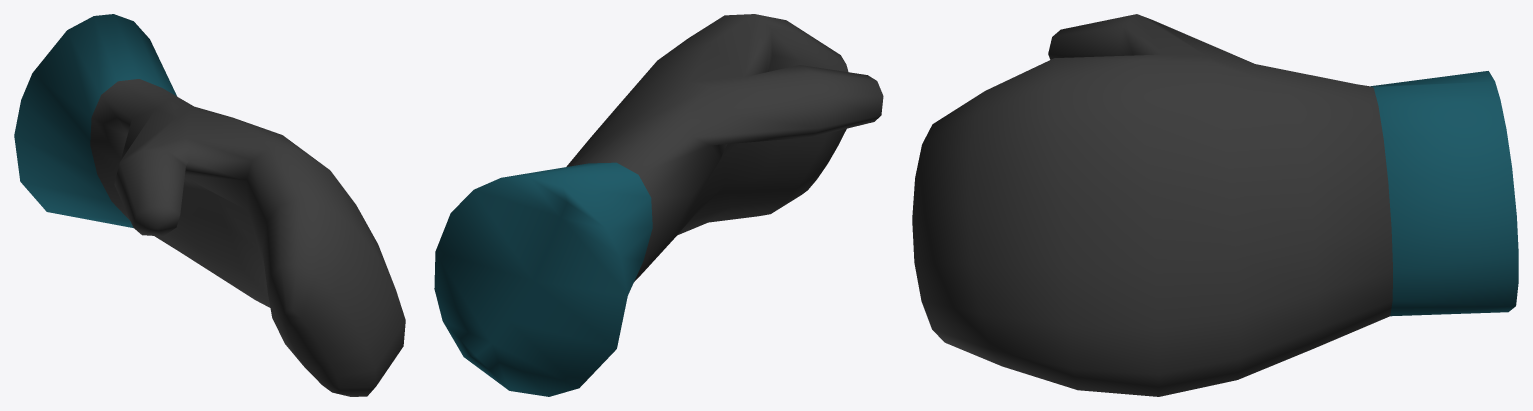
File: Snorkeller_LeftArm.fbx
The picture shows the model from 3 angles, left to right: view 1: azimuth 30°, elevation 25°; view 2: azimuth 150°, elevation 25°; view 3: azimuth 270°, elevation 25°; orthographic projection. The views are drawn at different scales.
Visible parts, largest first — view 1: LeftArm; view 2: LeftArm; view 3: LeftArm.
Boxes of the visible parts, left/top/right/bottom form: LeftArm: left=14, top=14, right=405, bottom=396; LeftArm: left=434, top=14, right=883, bottom=396; LeftArm: left=912, top=14, right=1518, bottom=396.
Size of the model in its own units: 11.62 by 10.33 by 20.6.
